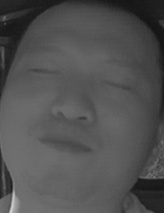blink: (101, 71, 134, 99), (27, 59, 62, 83)
mouth: (36, 126, 92, 160)
